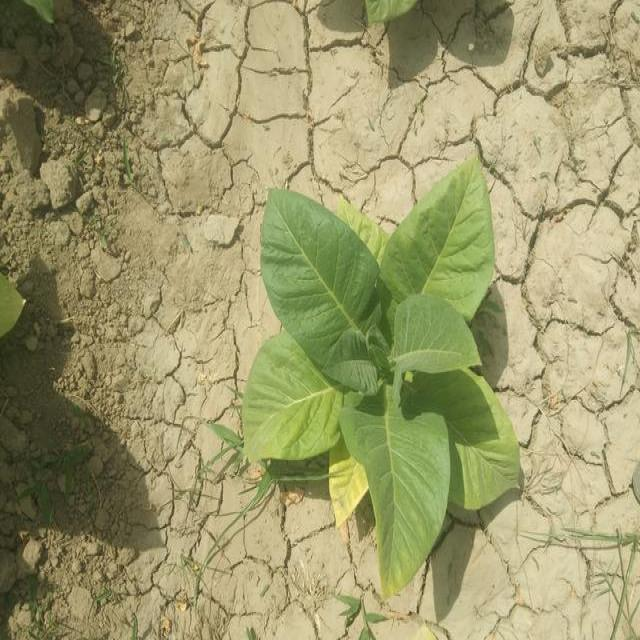crop: (243, 167, 518, 586)
